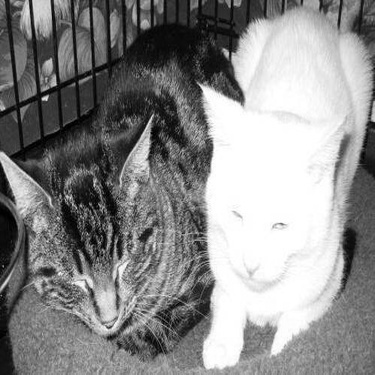cat: (1, 14, 247, 357), (200, 4, 372, 368)
